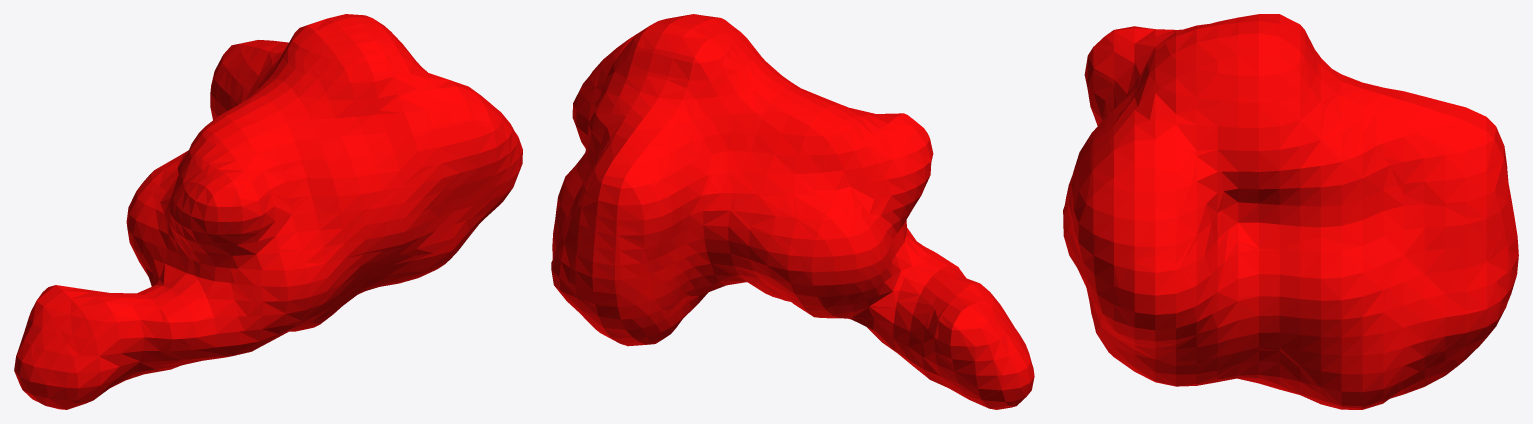
The model's file is yqcC_coarse.dae.
3 renders of one model, left to right at view 1: azimuth 30°, elevation 25°; view 2: azimuth 150°, elevation 25°; view 3: azimuth 270°, elevation 25°, orthographic. The views are drawn at different scales.
Parts seen in each view (by area): view 1: yqcC; view 2: yqcC; view 3: yqcC.
Boxes of the visible parts, x1,y1,x2,y2 form: yqcC: [14, 14, 522, 409]; yqcC: [551, 14, 1034, 409]; yqcC: [1063, 14, 1518, 409].
Bounding box in the file's own units: 62.65 × 39 × 38.5.
